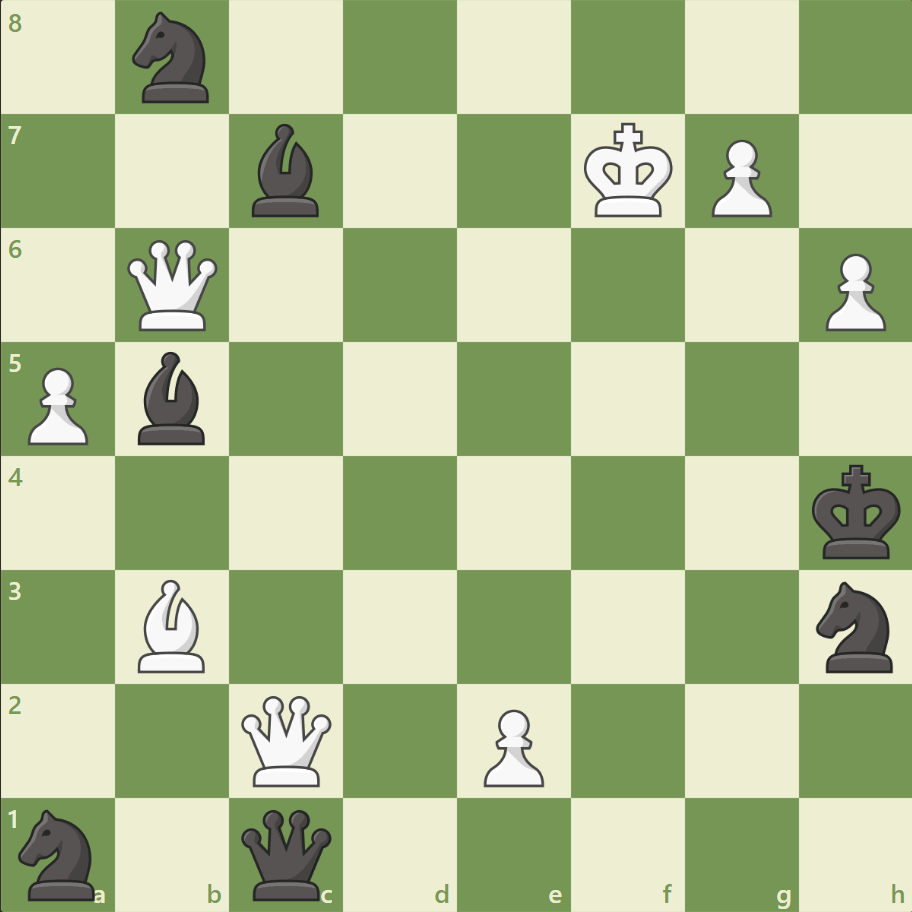B: (131, 574, 215, 676)
K: (579, 117, 679, 225)
P: (701, 132, 776, 223), (20, 359, 95, 450), (474, 700, 549, 791), (815, 246, 889, 337)
Q: (124, 236, 223, 335), (237, 690, 336, 789)
b: (244, 120, 328, 222), (131, 347, 215, 449)
k: (806, 458, 906, 566)
n: (124, 7, 222, 110), (806, 575, 903, 677), (11, 802, 108, 904)
q: (237, 804, 336, 903)
